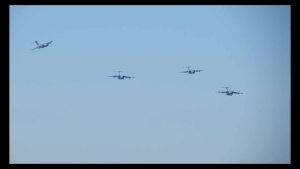flight: (106, 69, 136, 81), (30, 38, 53, 52), (214, 86, 245, 96), (178, 65, 205, 74)
